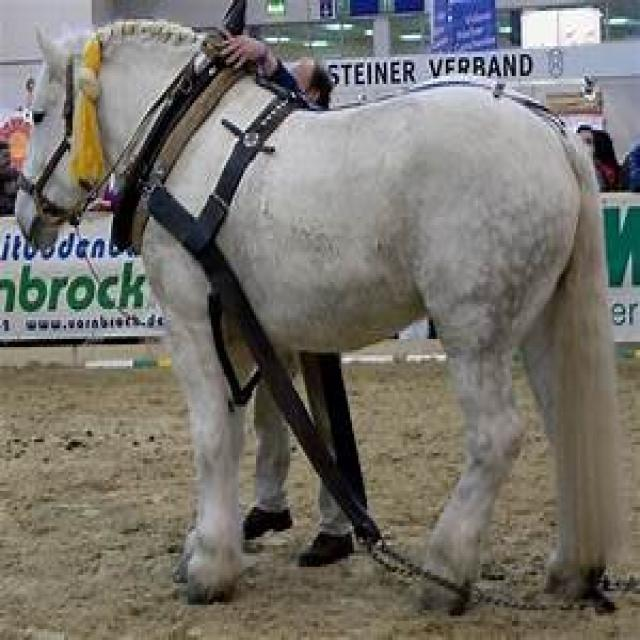horse: (20, 22, 608, 610)
